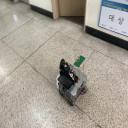cart: (56, 64, 88, 106)
